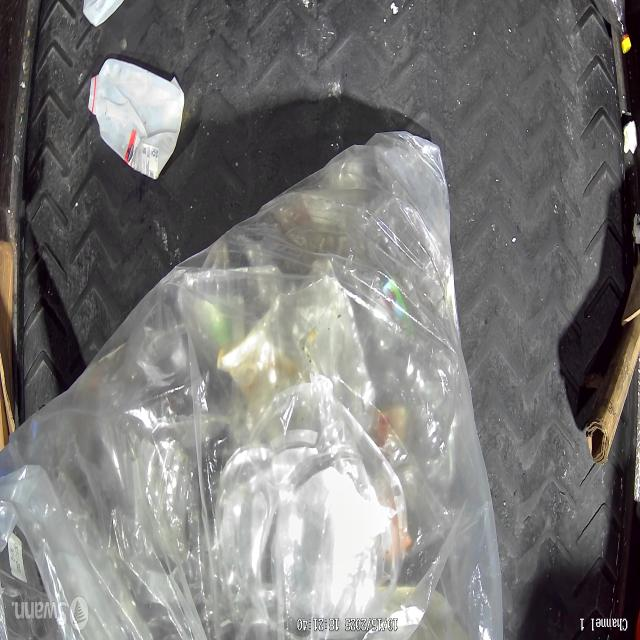milk_jug: (88, 58, 186, 180)
plastic_bottle: (598, 0, 632, 54)
